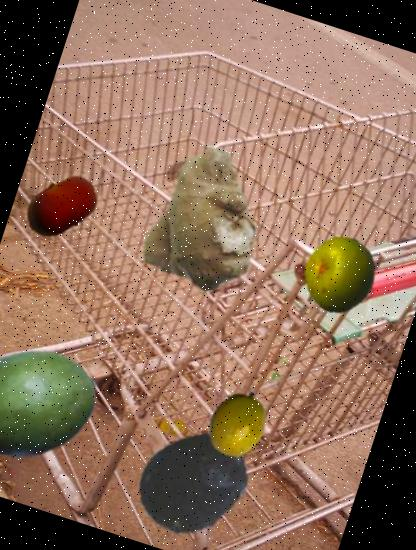Avocado: (125, 414, 262, 550)
Ginger: (106, 128, 288, 310)
Mango: (0, 317, 115, 491)
Maracuja: (194, 381, 282, 468)
Nectarine: (13, 158, 109, 254)
Pomelo: (290, 226, 388, 322)
